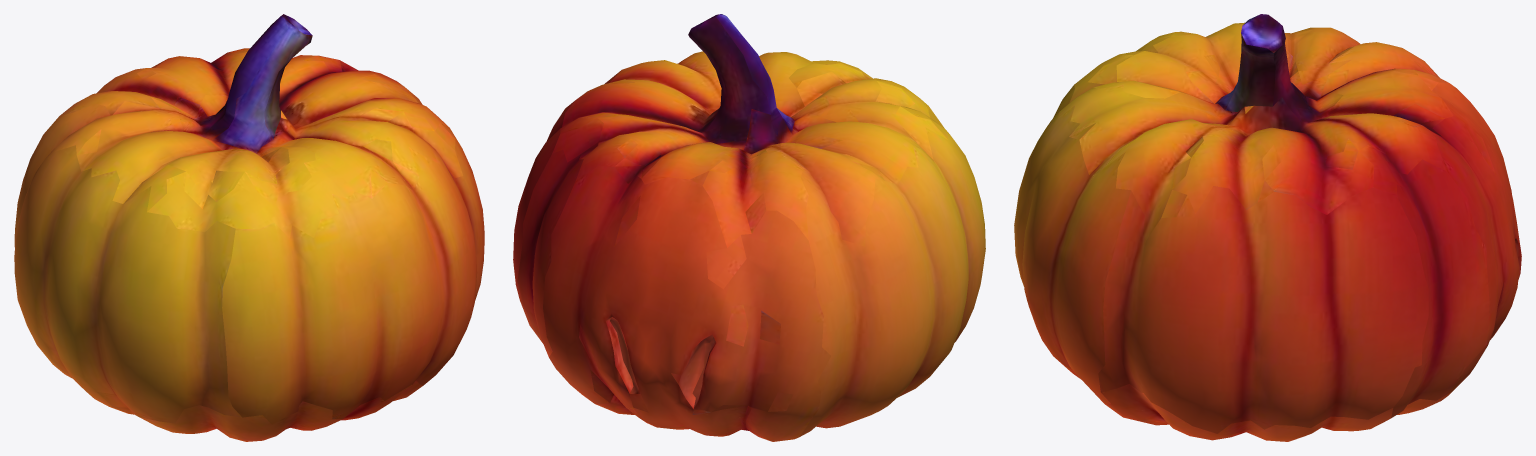
File: pumpkin.glb
The picture shows the model from 3 angles, left to right: view 1: azimuth 30°, elevation 25°; view 2: azimuth 150°, elevation 25°; view 3: azimuth 270°, elevation 25°; orthographic projection. The views are drawn at different scales.
Parts seen in each view (by area): view 1: pumpkin; view 2: pumpkin; view 3: pumpkin.
Part boxes in pixels (x1,y1,x2,y2): pumpkin: (14, 14, 484, 441); pumpkin: (513, 14, 985, 441); pumpkin: (1014, 14, 1521, 441).
Size of the model in its own units: 0.9865 by 0.85 by 1.
1 material, 1 textured.
